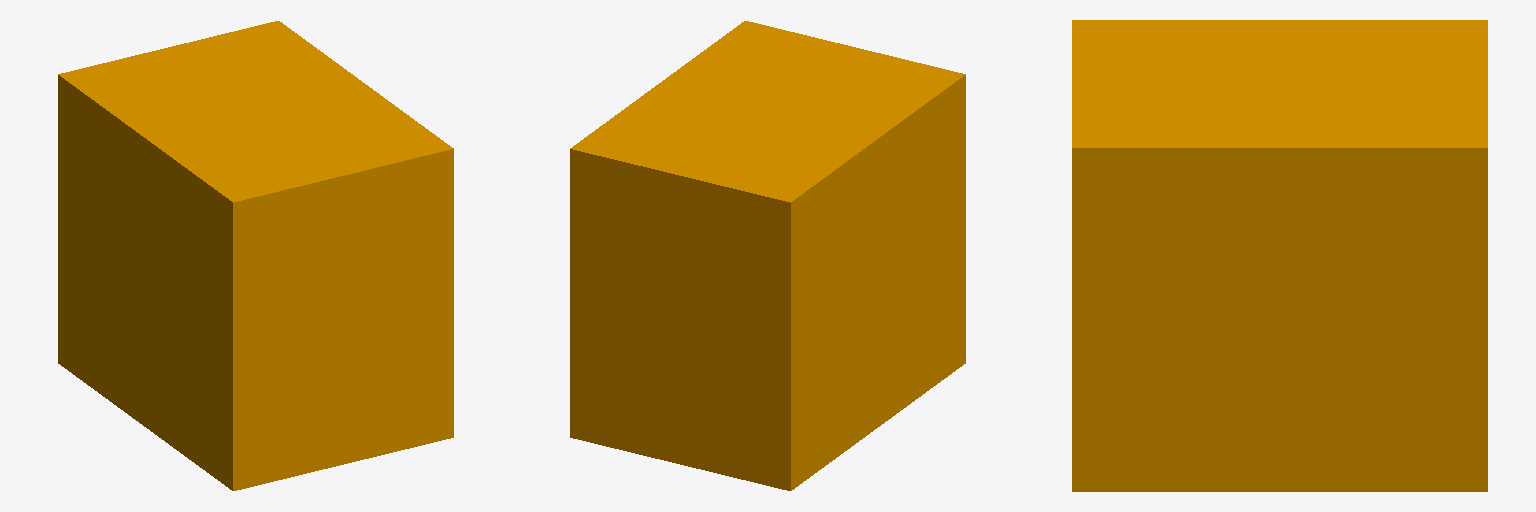
robot.urdf — object:
<robot name="object">
  <link name="object">
    <visual>
      <origin xyz="0 0 0" />
      <geometry>
        <box size="0.064 0.08800000000000002 0.08" />
      </geometry>
    </visual>

    <collision>
      <origin xyz="0 0 0" />
      <geometry>
        <box size="0.064 0.08800000000000002 0.08" />
      </geometry>
    </collision>

    <inertial>
      <mass value="0.05" />
      <inertia ixx="0.0001" ixy="0.0" ixz="0.0" iyy="0.0001" iyz="0.0" izz="0.0001" />
    </inertial>
  </link>
</robot>

--- Render facts (derived) ---
Views: 3 orthographic renders of the robot side by side, from view 1: azimuth 30°, elevation 25°; view 2: azimuth 150°, elevation 25°; view 3: azimuth 270°, elevation 25°.
Model object with 1 links and 0 joints (none), rooted at object, posed every joint at zero.
Links seen in each view (by area): view 1: object; view 2: object; view 3: object.
Boxes of the visible links, x1,y1,x2,y2 form: object: (58,21,453,490); object: (570,21,965,490); object: (1072,20,1487,491).
Size in the robot's own frame: 0.064 by 0.088 by 0.08 metres.
Geometry: primitives only (box / cylinder / sphere), no mesh files.